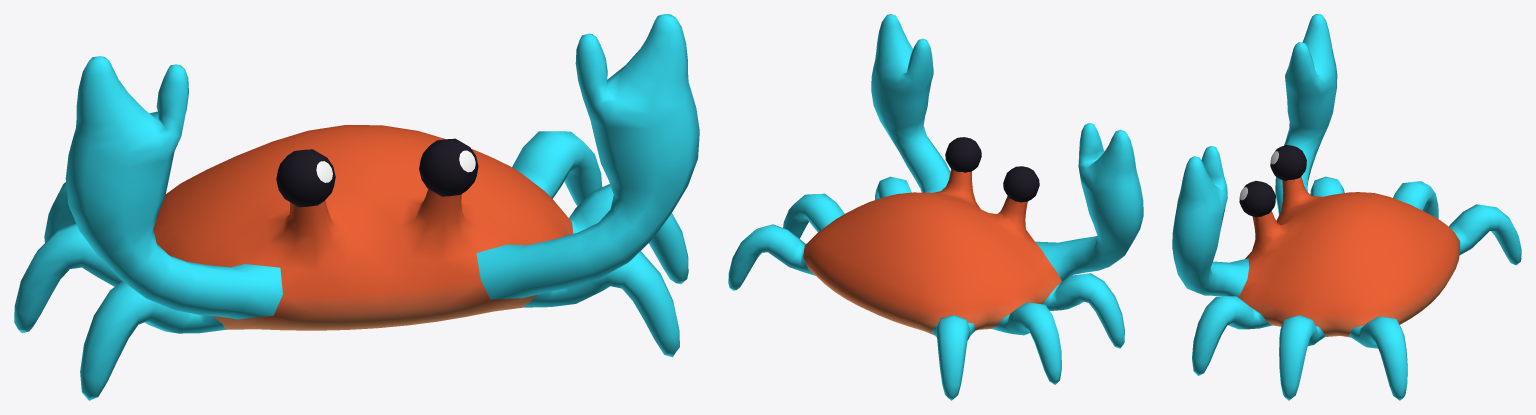
Rendered from Holo_Fish_Cooked.glb.
The picture shows the model from 3 angles, left to right: view 1: azimuth 30°, elevation 25°; view 2: azimuth 150°, elevation 25°; view 3: azimuth 270°, elevation 25°; orthographic projection. The views are drawn at different scales.
Parts seen in each view (by area): view 1: Holo_Fish_Cooked; view 2: Holo_Fish_Cooked; view 3: Holo_Fish_Cooked.
Part boxes in pixels (x1,y1,x2,y2): Holo_Fish_Cooked: [14, 14, 699, 400]; Holo_Fish_Cooked: [728, 14, 1143, 400]; Holo_Fish_Cooked: [1172, 14, 1521, 400].
Size of the model in its own units: 1.04 by 0.583 by 0.8521.
